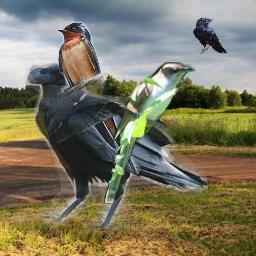Crow: (23, 63, 208, 230), (193, 17, 228, 54)
Cuckoo: (104, 62, 196, 203)
Swallow: (57, 21, 138, 175)
